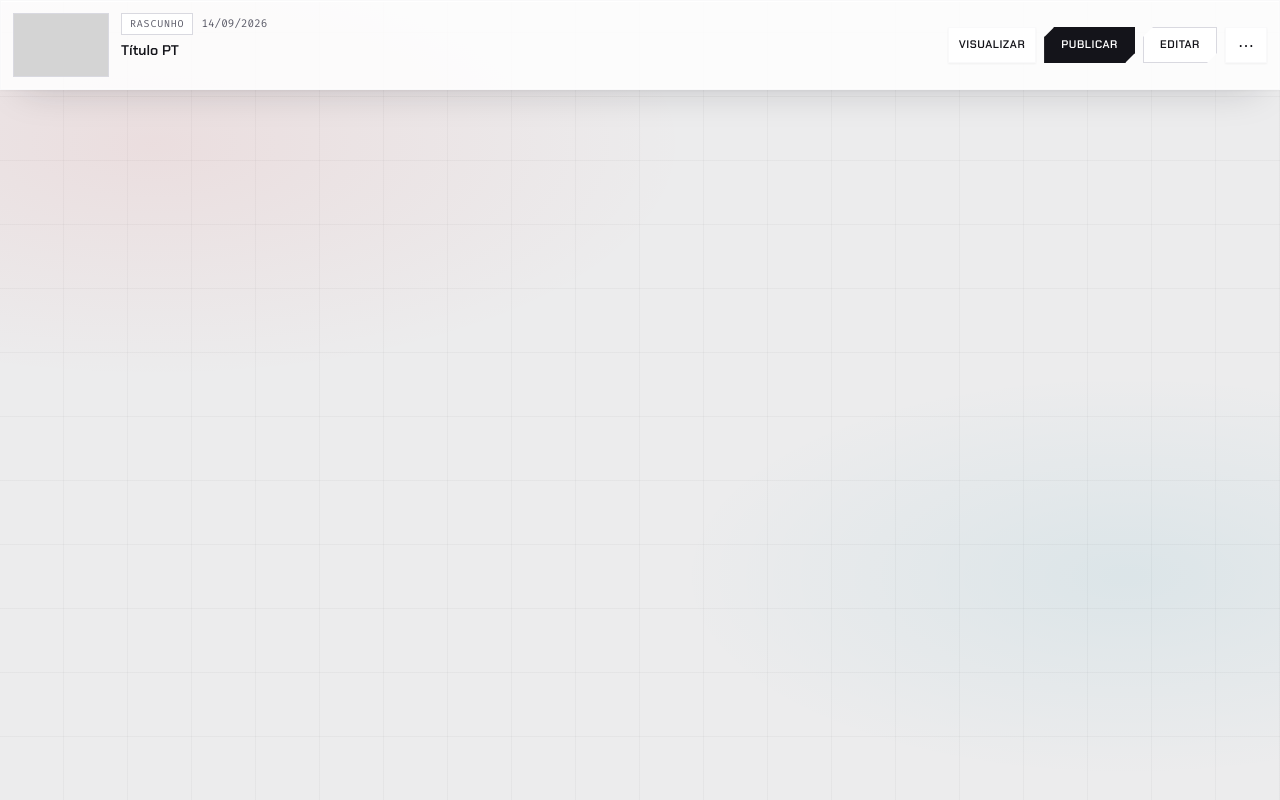
menu "mais ações" › Escape fecha o menu
Click the button named "mais ações". click: (1246, 45)
box: [1225,27,1267,63]
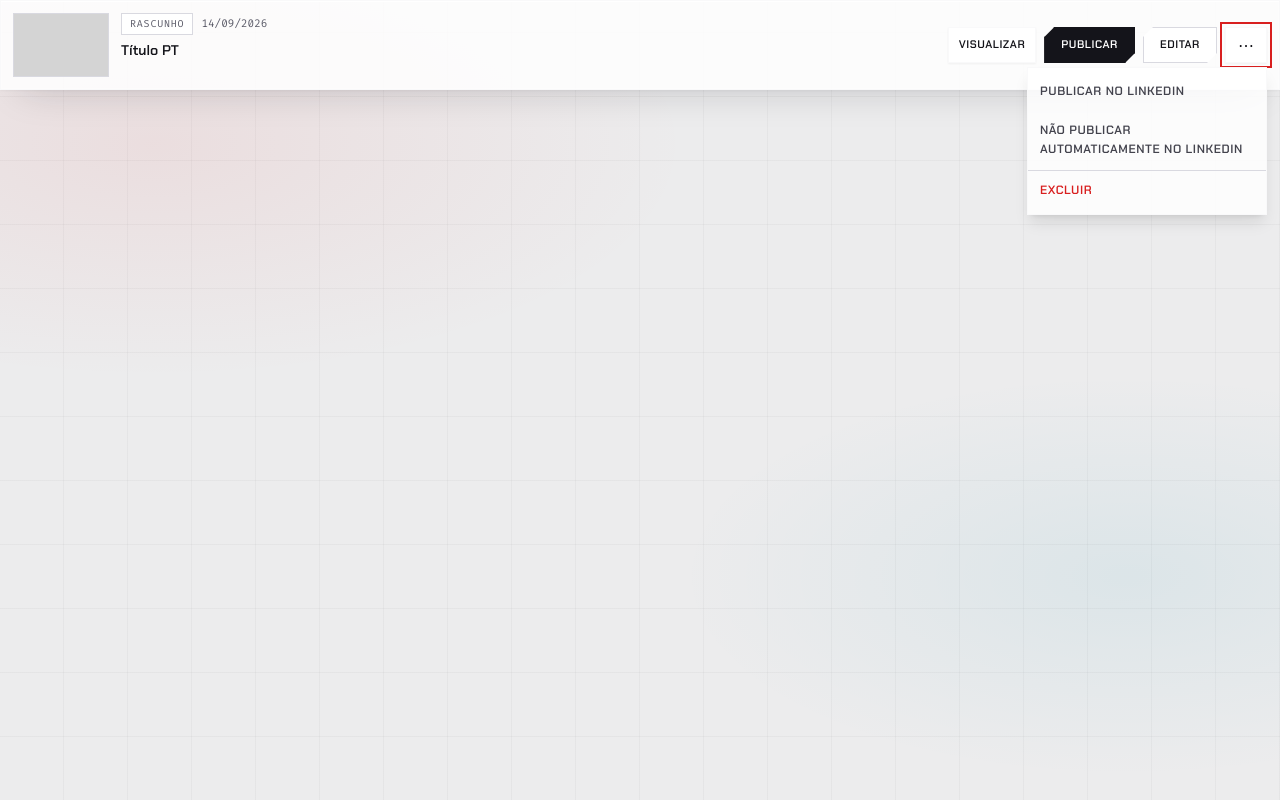
Expected: the menu is shown, [1027,67,1267,215]
Press Escape
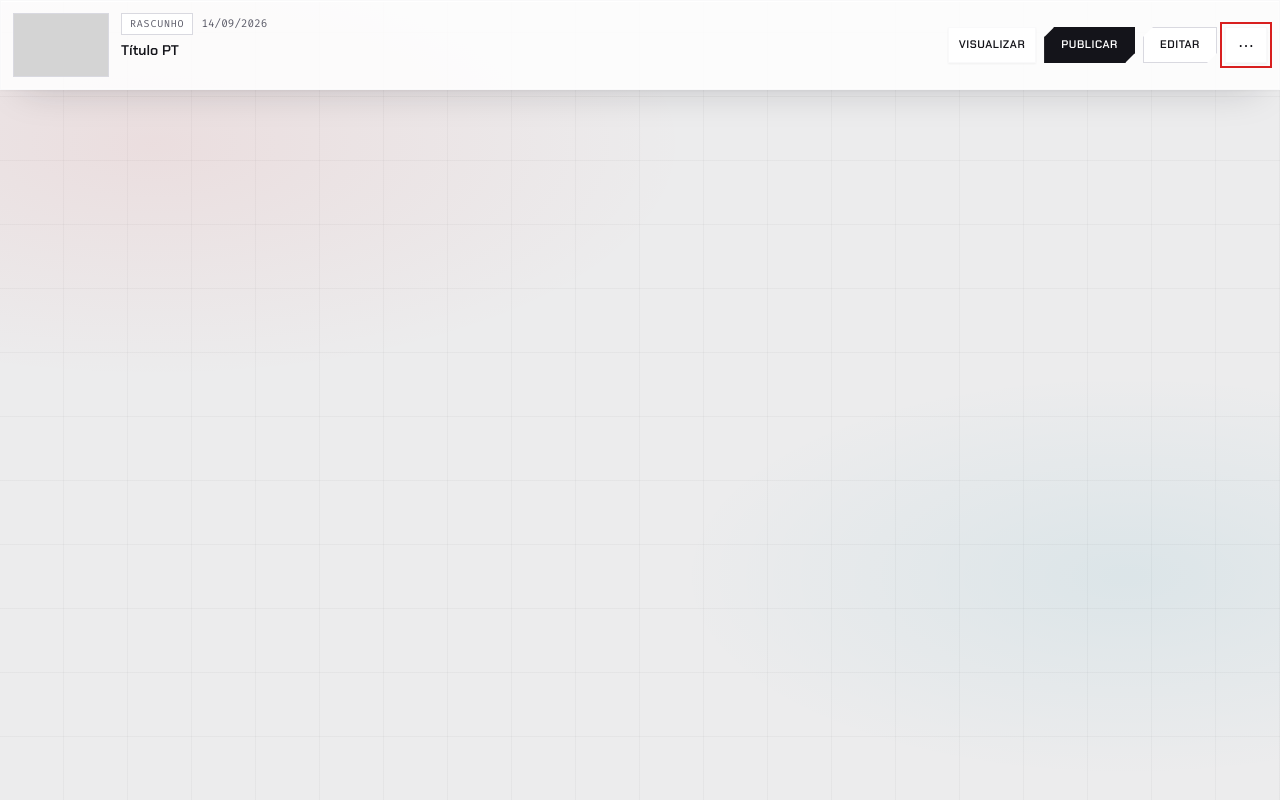
Expected: the menu is gone
